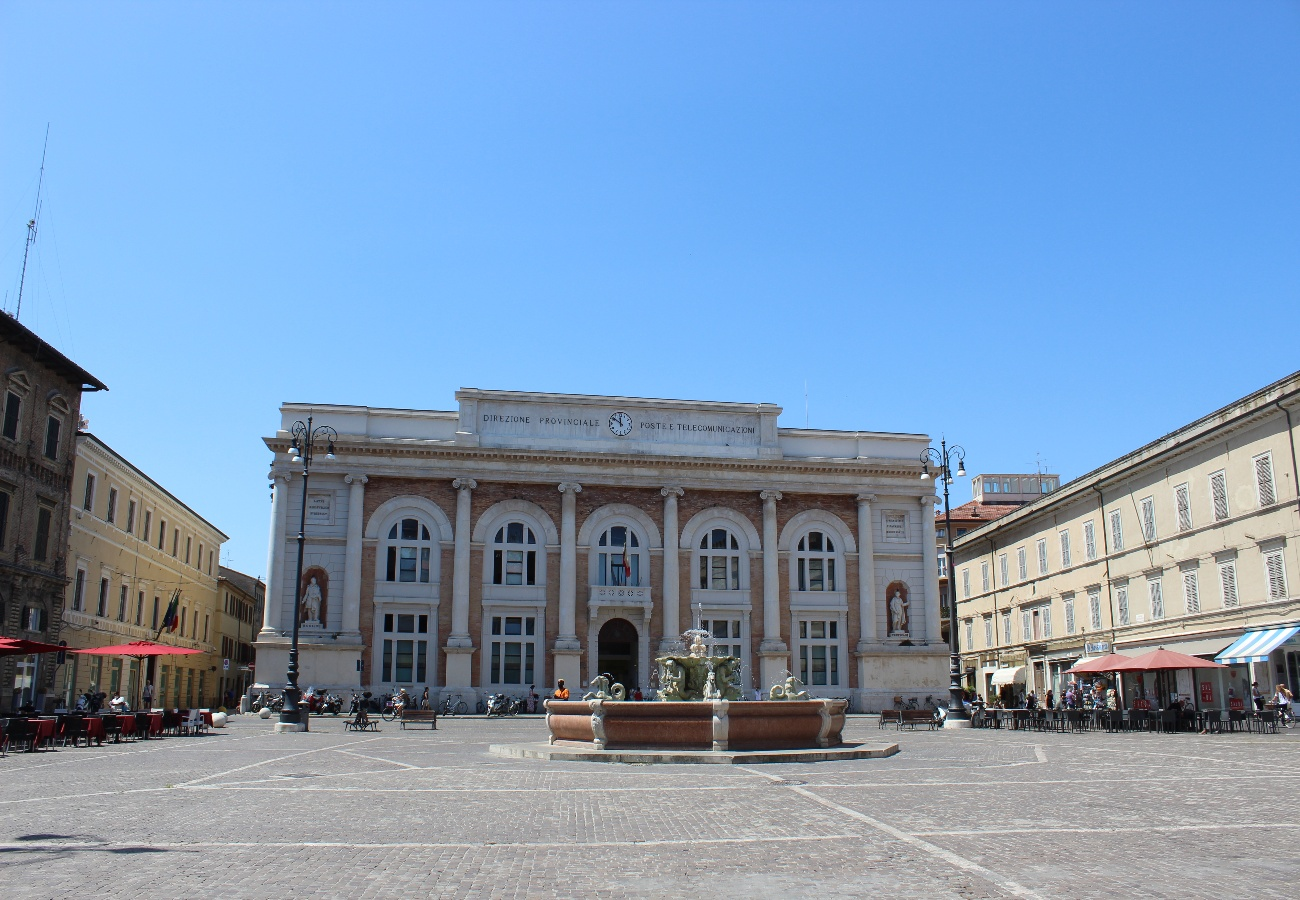Fontana Piazza del Popolo: (658, 655, 741, 703)
Palazzo delle Poste: (260, 386, 960, 727)
